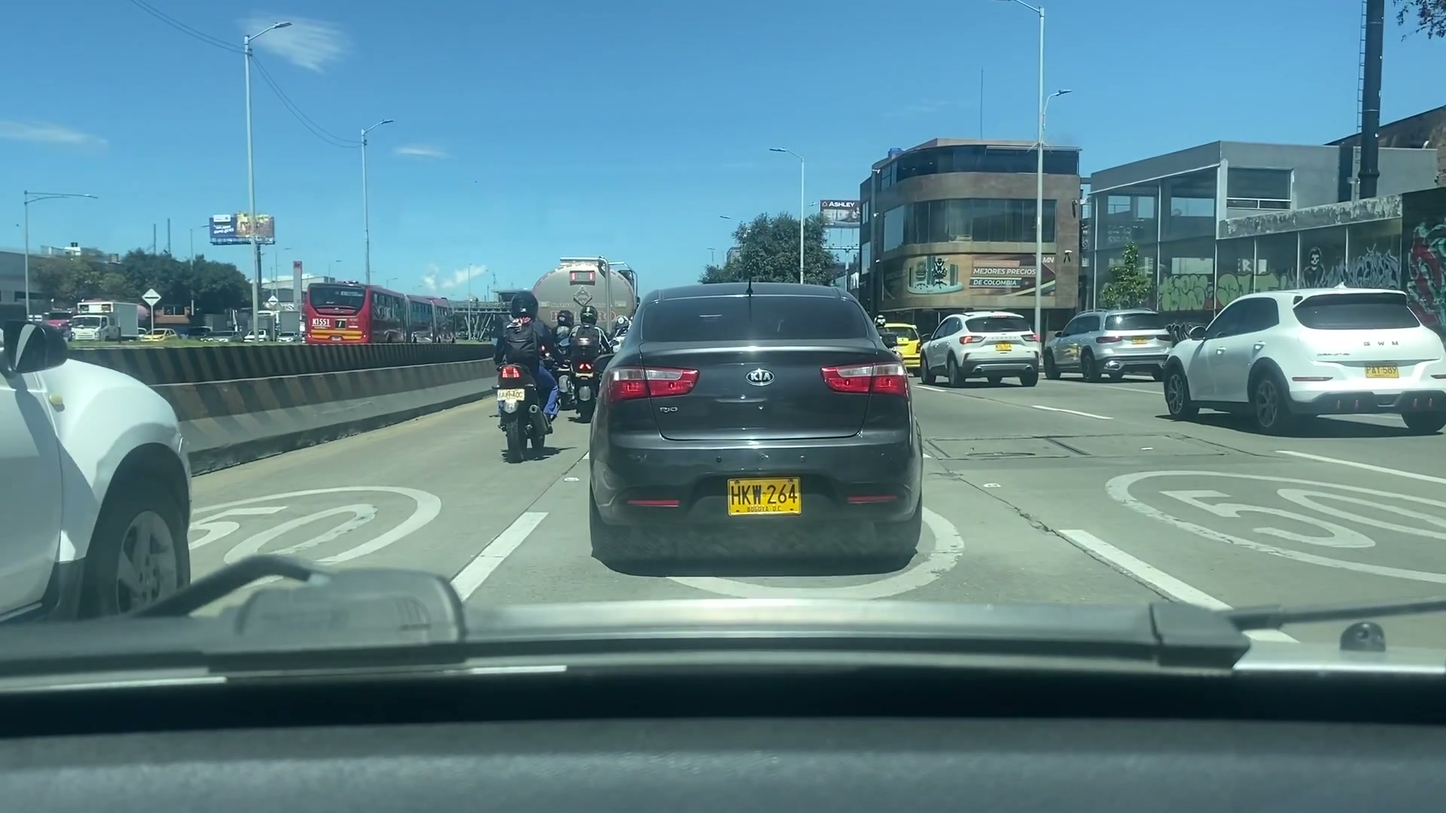bus: (306, 282, 459, 350)
car: (587, 282, 922, 567), (0, 309, 197, 621), (1159, 282, 1446, 431), (1045, 308, 1175, 382), (921, 313, 1041, 387), (873, 315, 924, 377)
motorcycle: (488, 367, 558, 461), (564, 355, 609, 417), (555, 361, 580, 414)
person: (494, 287, 555, 454), (573, 299, 609, 400), (552, 308, 580, 385)
truck: (525, 255, 641, 363)
